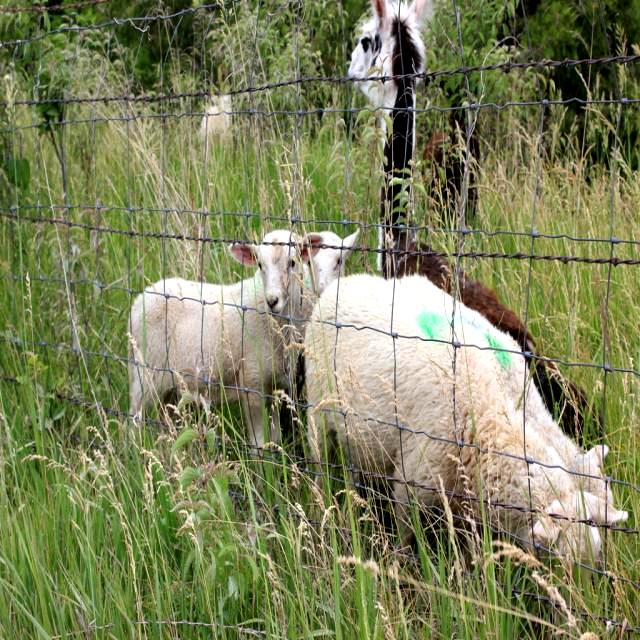sheep: (306, 272, 623, 565), (127, 230, 323, 448), (406, 270, 602, 465), (300, 229, 358, 298)
